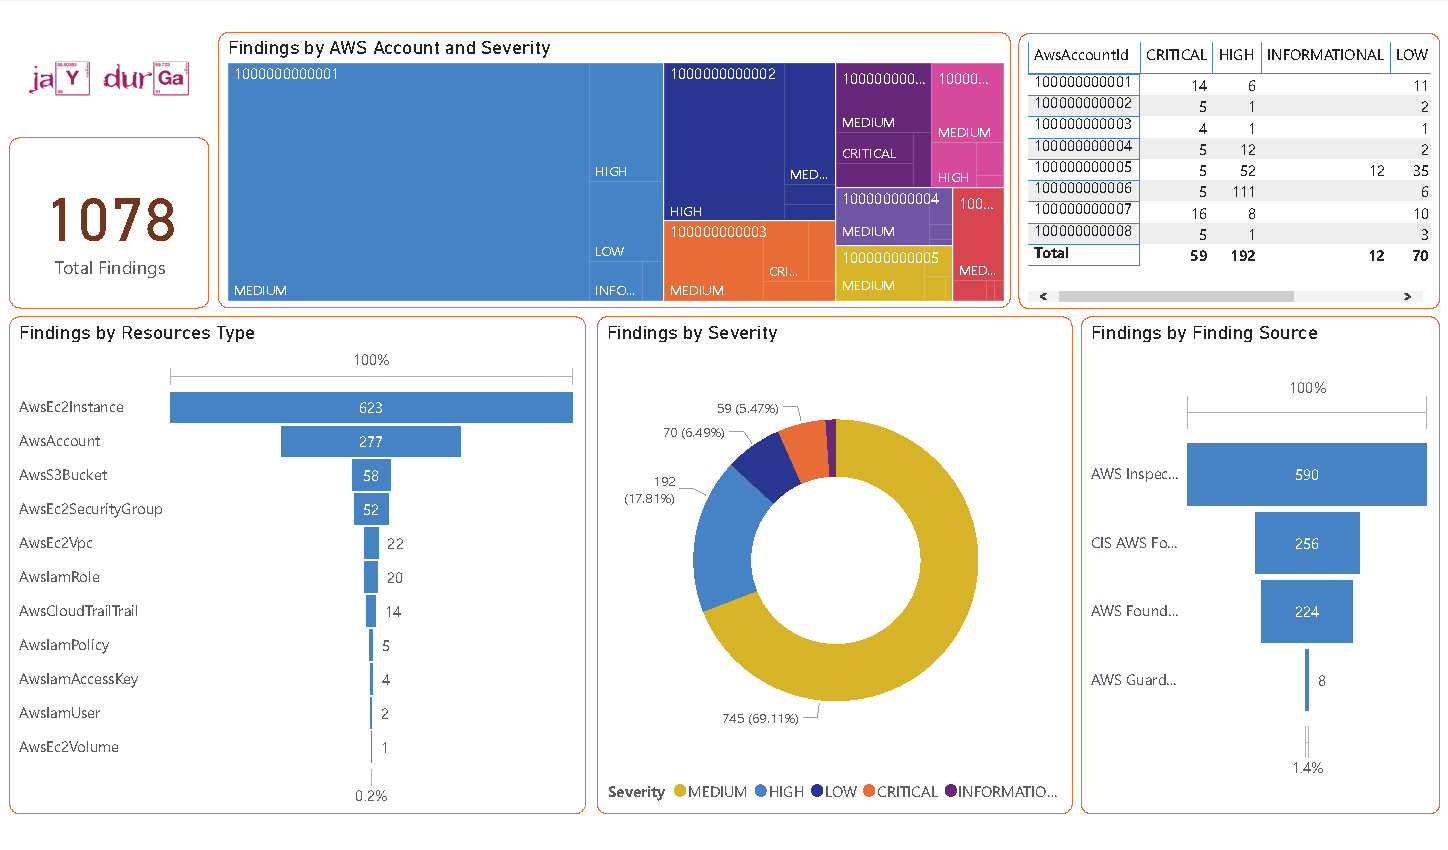

What the dashboard file says about the page in this screenshot:
{"tool":"powerbi","page":{"name":"Dashboard","canvas":[1280,720],"ordinal":0},"visuals":[{"type":"funnel","fields":{"Category":["SecurityHub-Findings.Resources.Type"],"Y":["SecurityHub-Findings.Id"]},"box":[8,261.9,510.5,444.8],"z":0},{"type":"donutChart","fields":{"Category":["SecurityHub-Findings.Severity.Label"],"Y":["SecurityHub-Findings.Id"]},"box":[527.3,261.9,420.8,444.8],"z":1000},{"type":"treemap","fields":{"Group":["SecurityHub-Findings.AwsAccountId"],"Values":["SecurityHub-Findings.Id"],"Details":["SecurityHub-Findings.Severity.Label"]},"box":[192.9,7.6,701.2,247.1],"z":2000},{"type":"card","fields":{"Values":["SecurityHub-Findings.Id"]},"box":[7.6,101.9,176.7,152.8],"z":3000},{"type":"funnel","fields":{"Category":["SecurityHub-Findings.FindingSource"],"Y":["SecurityHub-Findings.Id"]},"box":[955.3,261.9,317.8,444.8],"z":4000},{"type":"image","box":[7.6,8.7,176.7,84.5],"z":5000},{"type":"pivotTable","fields":{"Rows":["SecurityHub-Findings.AwsAccountId"],"Columns":["SecurityHub-Findings.Severity.Label"],"Values":["SecurityHub-Findings.Id"]},"box":[900.2,8.9,372.9,246.8],"z":6000}]}

Visuals, with their boxes on the page's 1280x720 design canvas (x1, y1, x2, y2). These are canvas units, not pixel positions in the 1448x850 screenshot, which may show the page scaled, cropped or inside an application window:
funnel - SecurityHub-Findings.Resources.Type x SecurityHub-Findings.Id: [8, 262, 518, 707]
donutChart - SecurityHub-Findings.Severity.Label x SecurityHub-Findings.Id: [527, 262, 948, 707]
treemap - SecurityHub-Findings.AwsAccountId x SecurityHub-Findings.Id: [193, 8, 894, 255]
card - SecurityHub-Findings.Id: [8, 102, 184, 255]
funnel - SecurityHub-Findings.FindingSource x SecurityHub-Findings.Id: [955, 262, 1273, 707]
image: [8, 9, 184, 93]
pivotTable - SecurityHub-Findings.AwsAccountId x SecurityHub-Findings.Severity.Label: [900, 9, 1273, 256]
